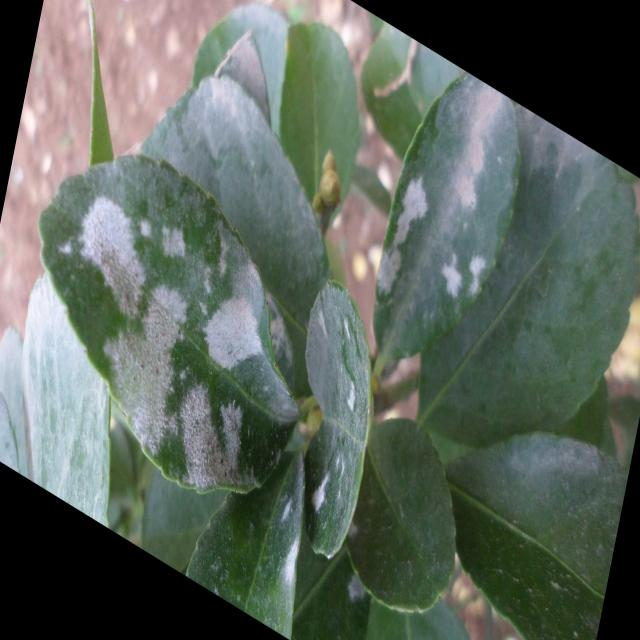Powdery Mildew: (38, 149, 300, 496), (372, 70, 521, 374)
